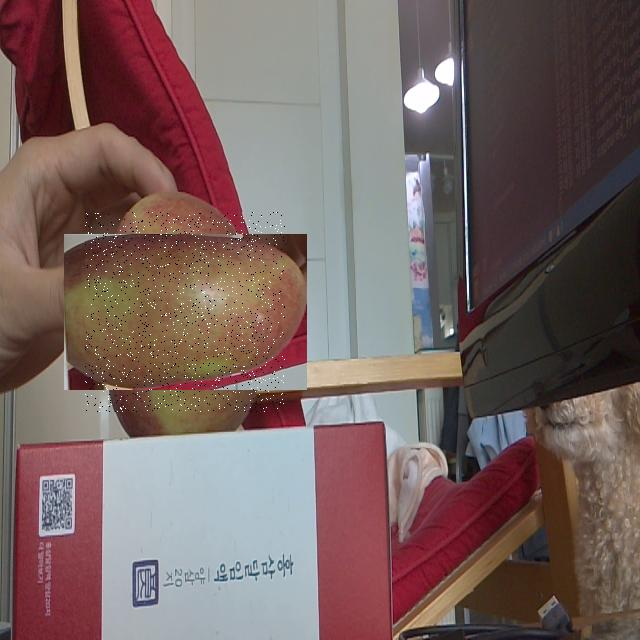apple: (86, 212, 286, 412)
